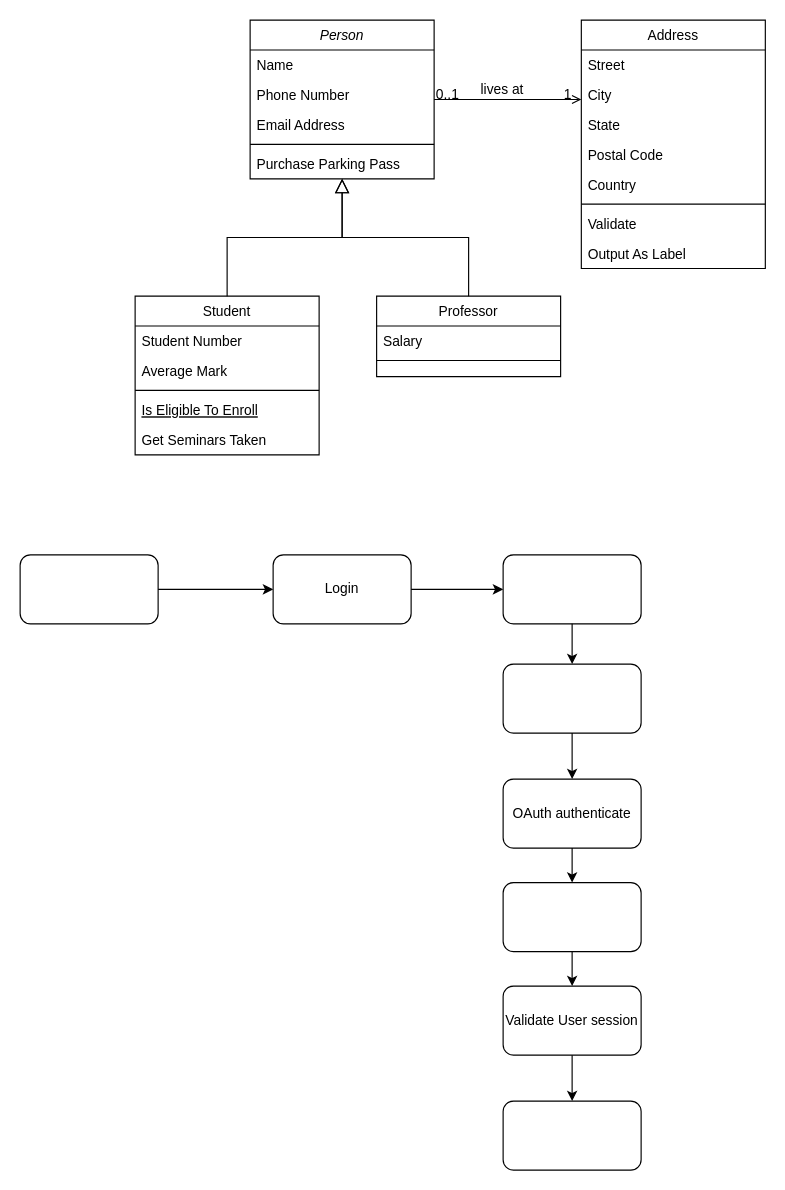
Image size: 785x1190. Some labels were removed from this diagram. Here are the shapes that lost their labels. From the top down, the centre of each, then its label:
the point at 88,589: Start
the point at 571,589: Create a User Session
the point at 571,698: Build a token
the point at 571,916: Load User Profile
